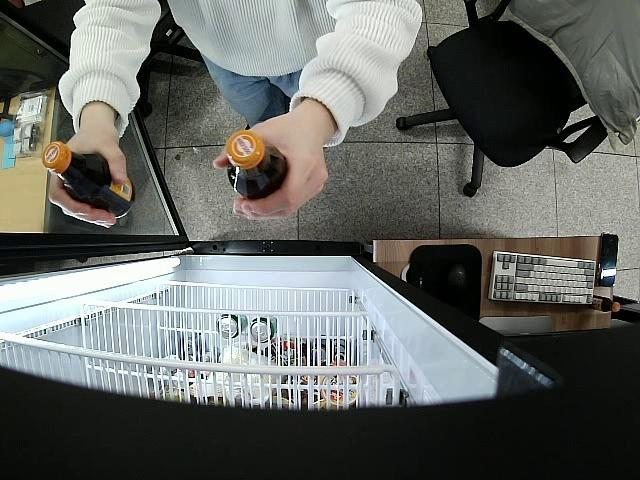17_vita500: (41, 140, 138, 218), (225, 130, 290, 201)
